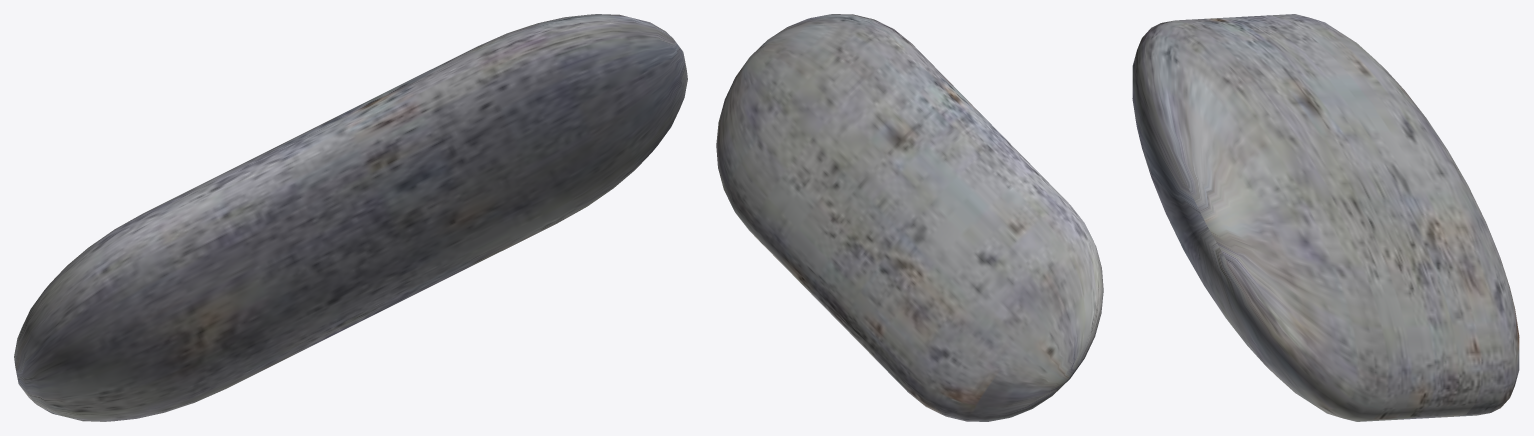
The model's file is Fin_Rear_Left.fbx.
3 renders of one model, left to right at view 1: azimuth 30°, elevation 25°; view 2: azimuth 150°, elevation 25°; view 3: azimuth 270°, elevation 25°, orthographic. The views are drawn at different scales.
Parts seen in each view (by area): view 1: Fin_Rear_Left; view 2: Fin_Rear_Left; view 3: Fin_Rear_Left.
Boxes of the visible parts, <box> form: Fin_Rear_Left: <box>14,14,687,421</box>; Fin_Rear_Left: <box>716,14,1103,421</box>; Fin_Rear_Left: <box>1132,14,1519,421</box>.
Bounding box in the file's own units: 1.08 × 0.7193 × 0.4921.
